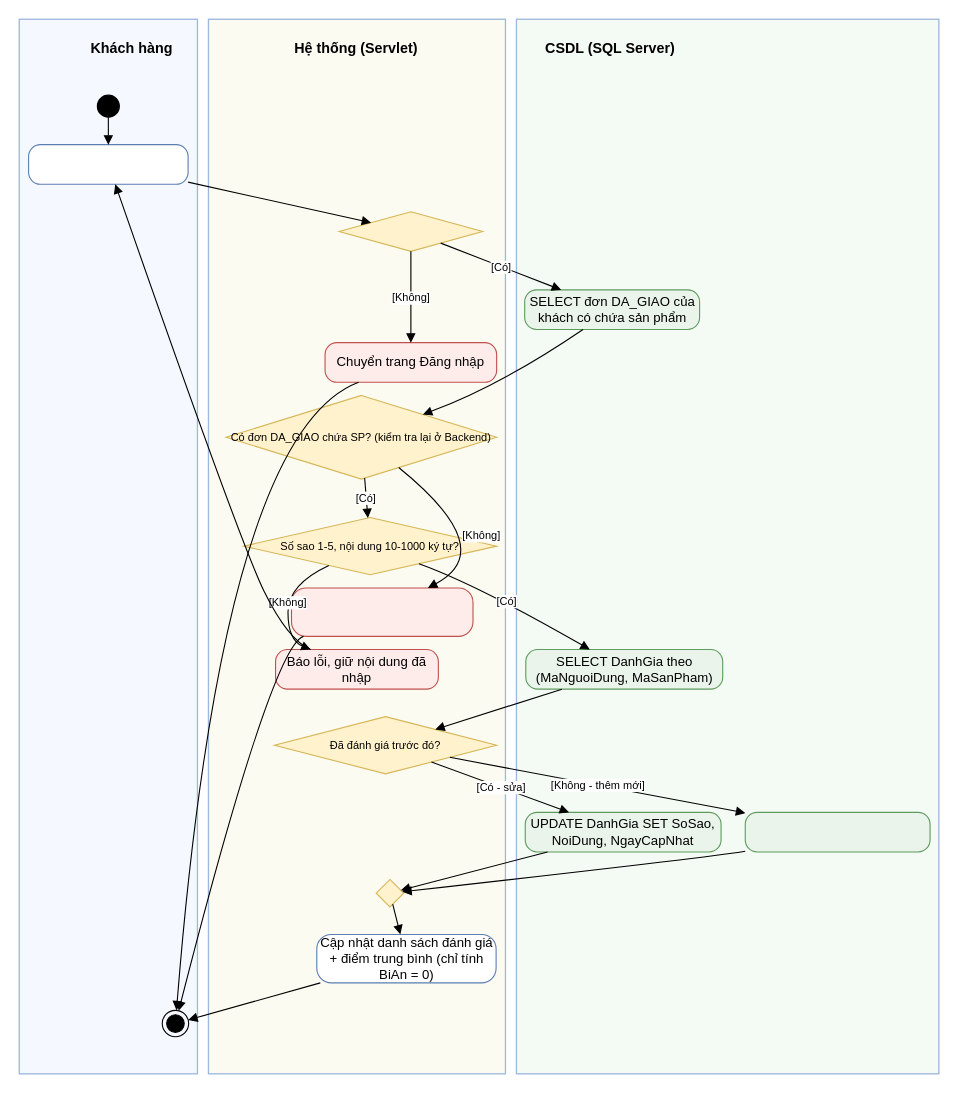
Image size: 959x1093. Some labels were removed from this diagram. The shapes that lost their labels are listed below. From the top down, each one's centre as x and y in pixels, then its label:
[108,164]: Chọn 1-5 sao, nhập nội dung, bấm Gửi
[410,231]: Đã đăng nhập?
[381,611]: Từ chối: chỉ khách đã mua và đã nhận hàng mới được đánh giá
[837,831]: INSERT DanhGia (BiAn = 0)
